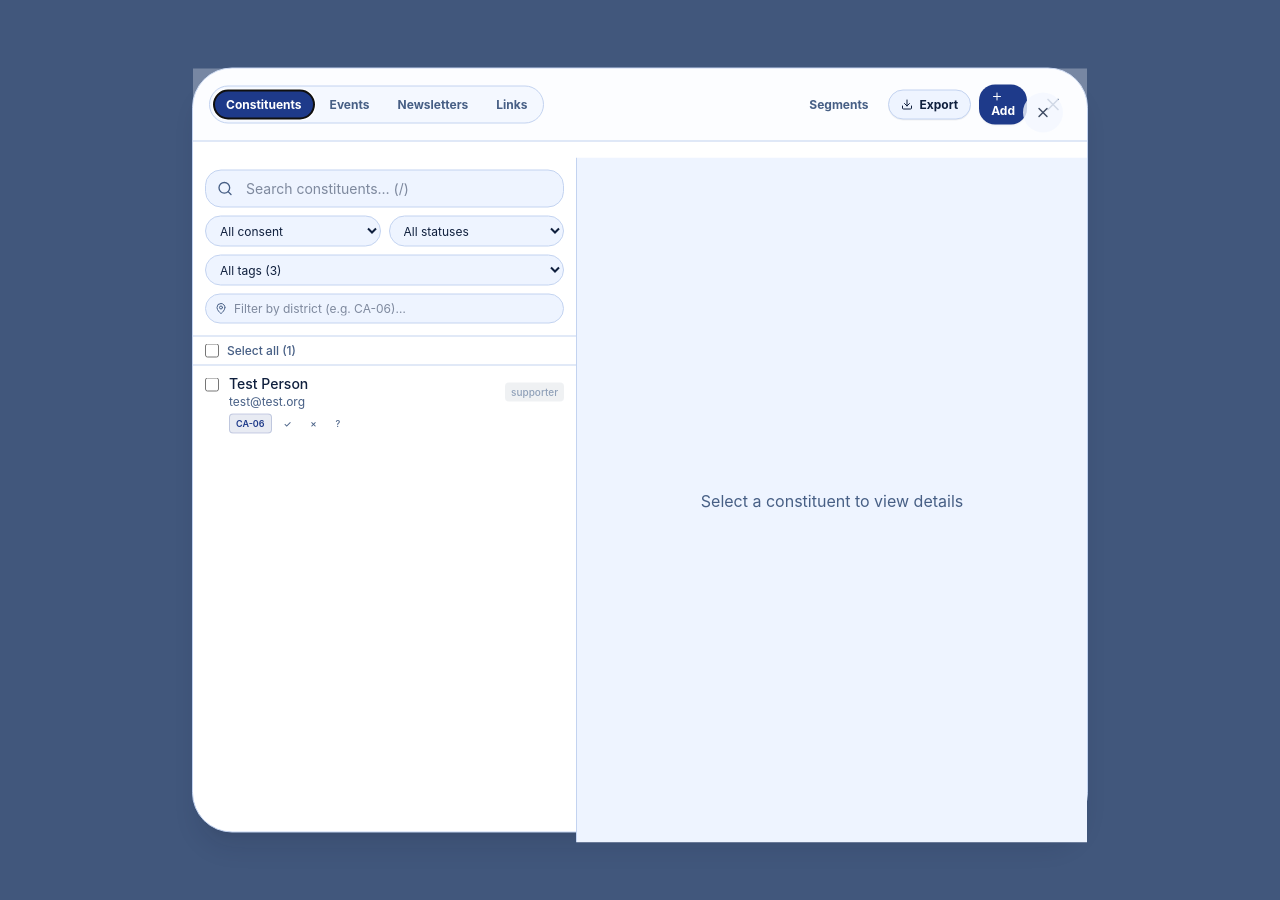
Test: CRMPanel › applies a segment as a full filter replacement, not just its text query
Click the button "Segments": (839, 104) [797,90,880,118]
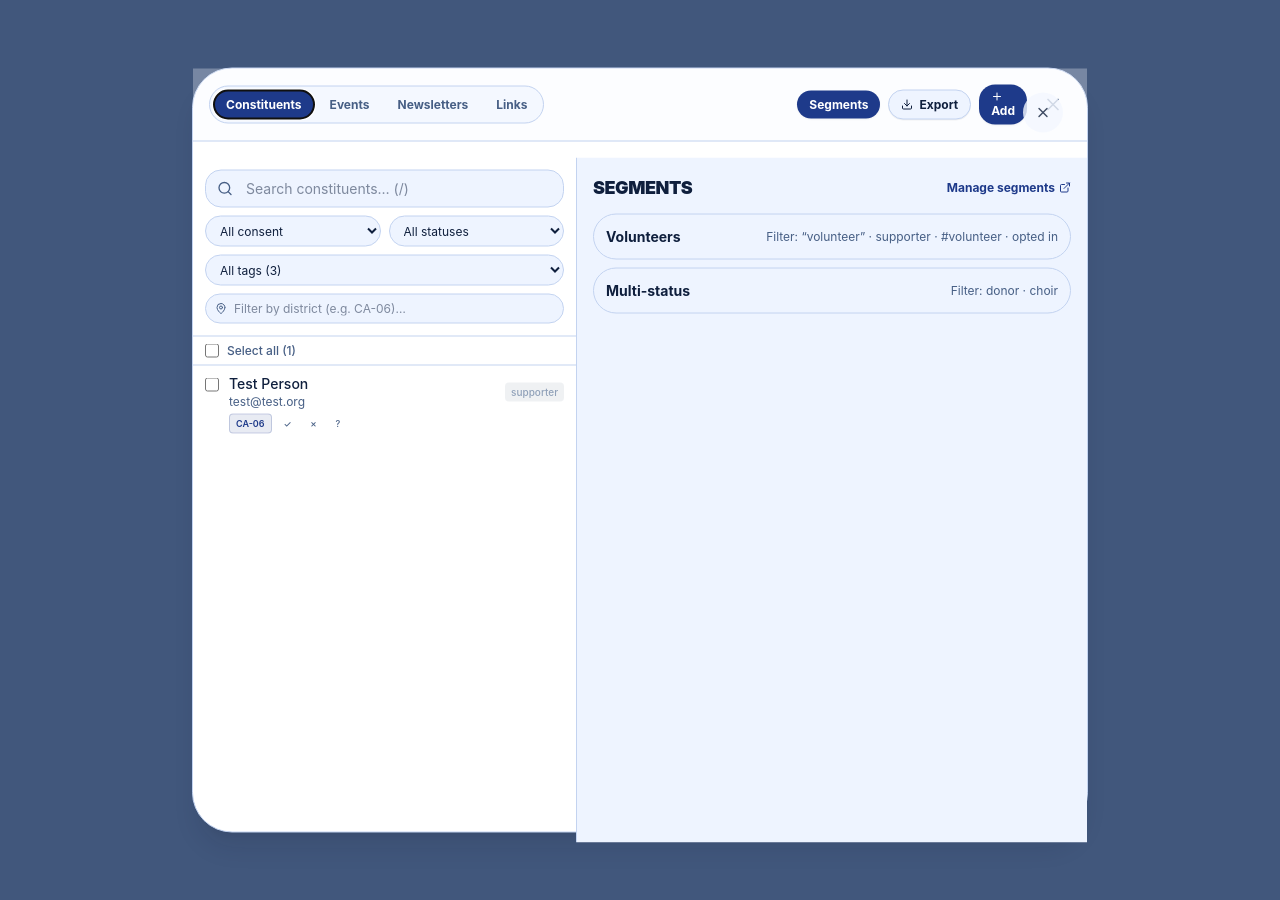
Now the button that starts with "Volunteers" is shown
Click the button that starts with "Volunteers": (832, 236) [593,214,1071,260]
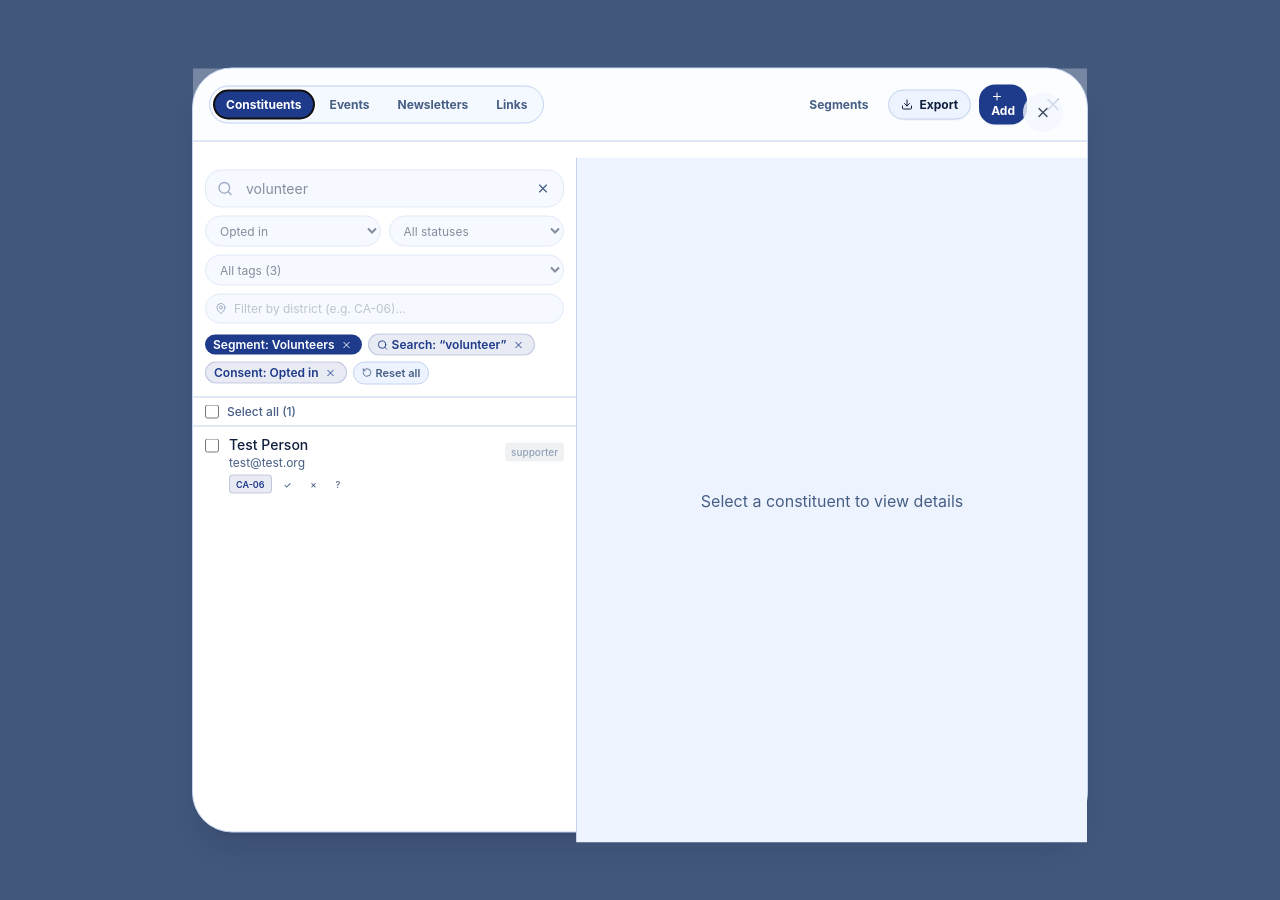
Now the text "Segment: Volunteers" is shown, box [213,336,335,352]
Now the dropdown named "Filter by constituent status" is disabled, box [388,216,564,246]
